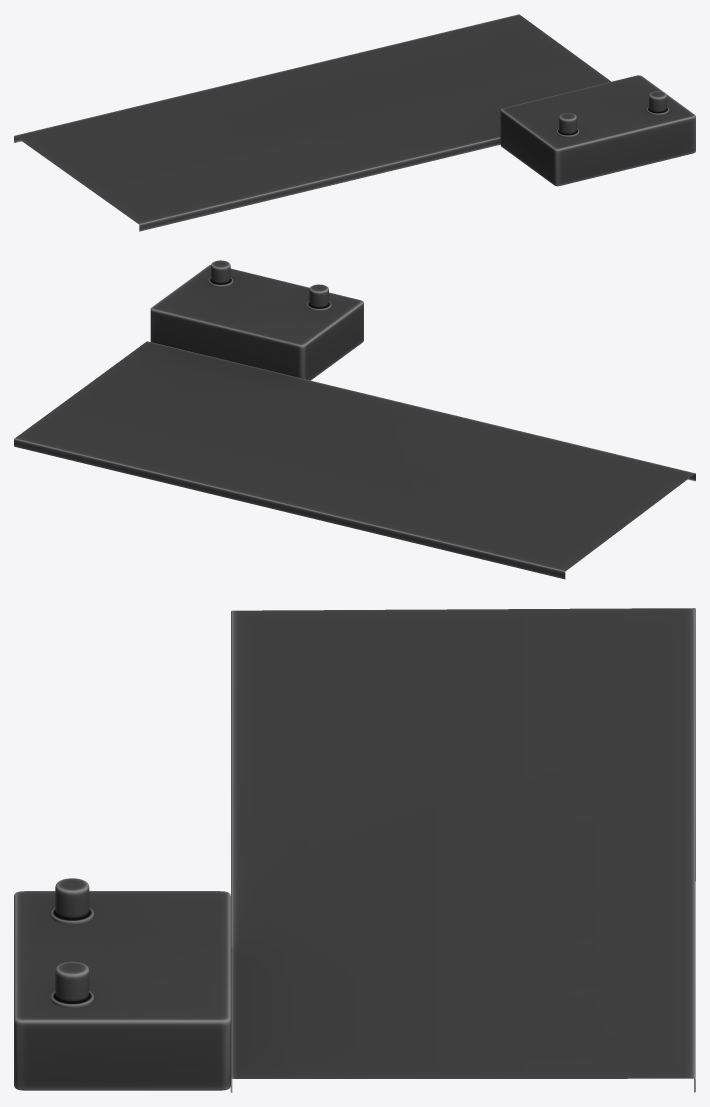
File: 3D_Track_Start.FBX
3 renders of one model, top to bottom at view 1: azimuth 30°, elevation 25°; view 2: azimuth 150°, elevation 25°; view 3: azimuth 270°, elevation 25°, orthographic. The views are drawn at different scales.
Parts seen in each view (by area): view 1: 3D_Track_Start; view 2: 3D_Track_Start; view 3: 3D_Track_Start.
Boxes of the visible parts, <box> form: 3D_Track_Start: <box>14,14,695,231</box>; 3D_Track_Start: <box>14,260,695,579</box>; 3D_Track_Start: <box>14,608,695,1092</box>.
Size of the model in its own units: 357 by 36.06 by 220.
